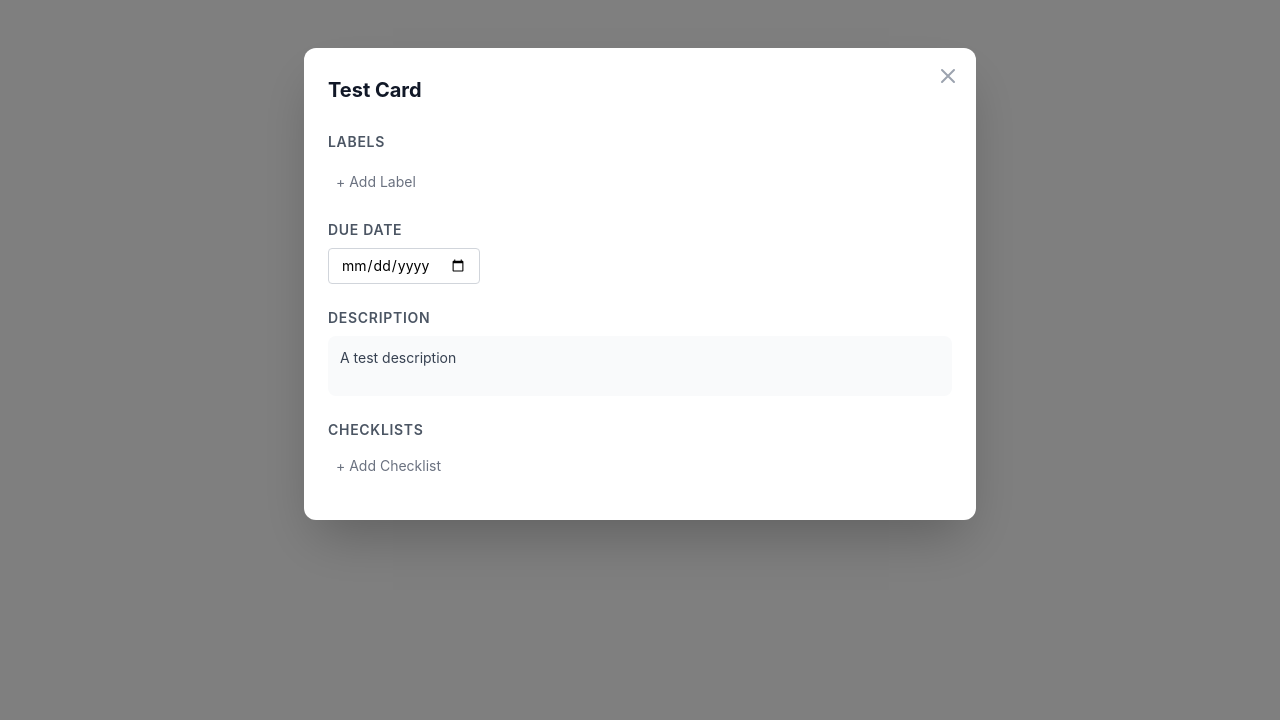
Test: CardModal › editing title › shows input when title is clicked
Click the heading "Test Card".
click(375, 90)  # box [328, 78, 422, 102]
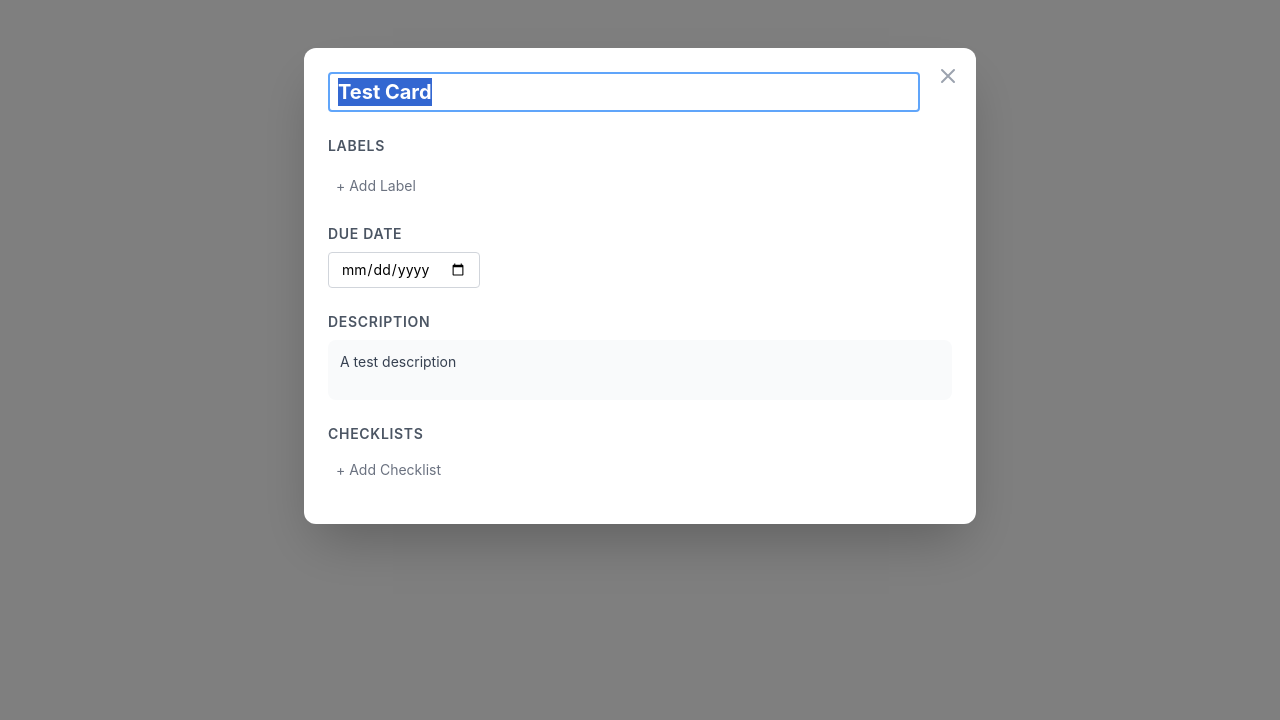
Result: the field showing "Test Card" is shown at [328, 72, 920, 112]
